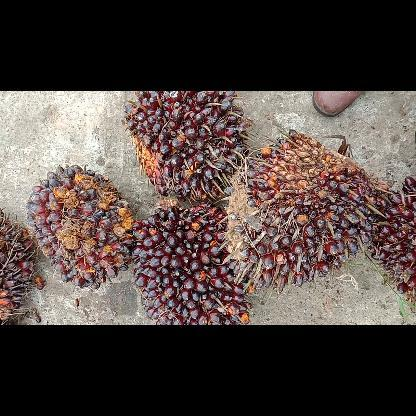Kurang masak: (220, 127, 390, 297), (130, 194, 254, 324), (22, 162, 136, 294), (121, 91, 253, 204)
